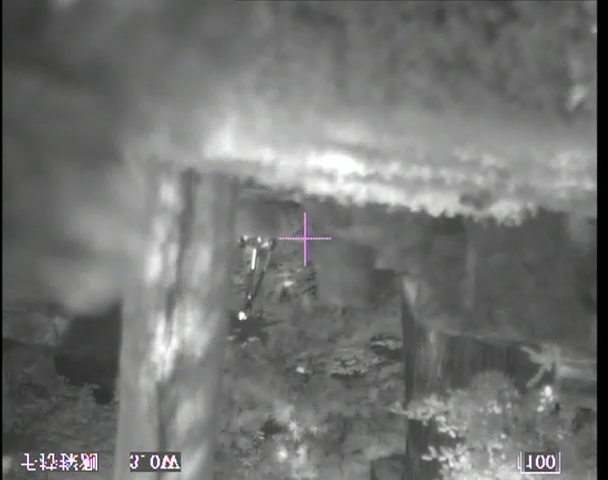my: (237, 311, 246, 321)
